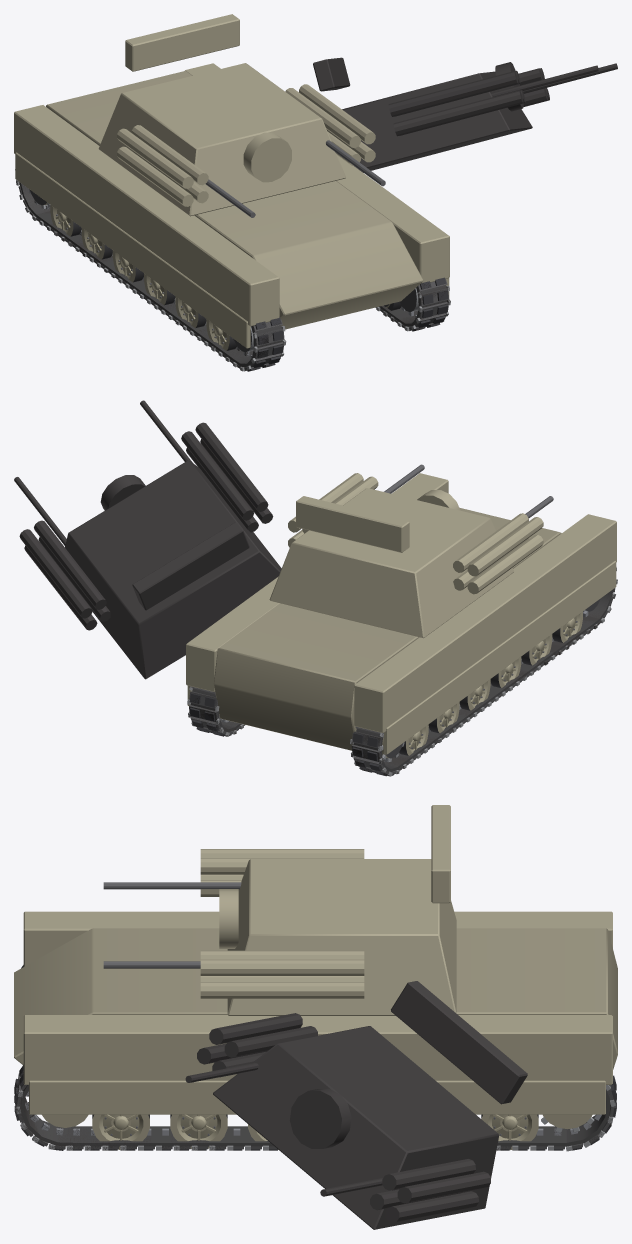
File: aaVehicle__2k22_tunguska.glb
3 renders of one model, top to bottom at view 1: azimuth 30°, elevation 25°; view 2: azimuth 150°, elevation 25°; view 3: azimuth 270°, elevation 25°, orthographic. The views are drawn at different scales.
Parts seen in each view (by area): view 1: Hull_Mesh, Turret_Mesh, Wreck, Gun_Mesh, Track_L_Mesh, Track_R_Mesh, Wheel_L2_Mesh, Wheel_L4_Mesh, Wheel_L1_Mesh, Wheel_L0_Mesh; view 2: Hull_Mesh, Wreck, Turret_Mesh, Gun_Mesh, Track_L_Mesh, Track_R_Mesh; view 3: Hull_Mesh, Wreck, Turret_Mesh, Gun_Mesh, Track_R_Mesh, Wheel_R4_Mesh, Wheel_R5_Mesh, Wheel_R0_Mesh, Sprocket_R_Mesh.
Part boxes in pixels (left/top/right/bottom): Hull_Mesh: left=14, top=63, right=449, bottom=348; Turret_Mesh: left=98, top=14, right=345, bottom=216; Wreck: left=16, top=57, right=617, bottom=371; Gun_Mesh: left=117, top=84, right=385, bottom=217; Track_L_Mesh: left=16, top=180, right=286, bottom=371; Track_R_Mesh: left=375, top=277, right=450, bottom=331; Wheel_L2_Mesh: left=112, top=250, right=143, bottom=282; Wheel_L4_Mesh: left=175, top=296, right=206, bottom=327; Wheel_L1_Mesh: left=81, top=228, right=112, bottom=259; Wheel_L0_Mesh: left=50, top=205, right=81, bottom=236; Hull_Mesh: left=186, top=473, right=616, bottom=754; Wreck: left=14, top=400, right=617, bottom=775; Turret_Mesh: left=269, top=488, right=514, bottom=638; Gun_Mesh: left=288, top=464, right=553, bottom=594; Track_L_Mesh: left=350, top=567, right=617, bottom=776; Track_R_Mesh: left=187, top=686, right=244, bottom=736; Hull_Mesh: left=14, top=911, right=617, bottom=1114; Wreck: left=14, top=981, right=614, bottom=1229; Turret_Mesh: left=219, top=805, right=456, bottom=1015; Gun_Mesh: left=103, top=849, right=364, bottom=998; Track_R_Mesh: left=14, top=1065, right=616, bottom=1151; Wheel_R4_Mesh: left=170, top=1114, right=227, bottom=1148; Wheel_R5_Mesh: left=92, top=1114, right=149, bottom=1149; Wheel_R0_Mesh: left=481, top=1114, right=538, bottom=1149; Sprocket_R_Mesh: left=541, top=1114, right=594, bottom=1132.
Size of what is drawn, in the model's own units: 7.97 by 3.2 by 6.83.
